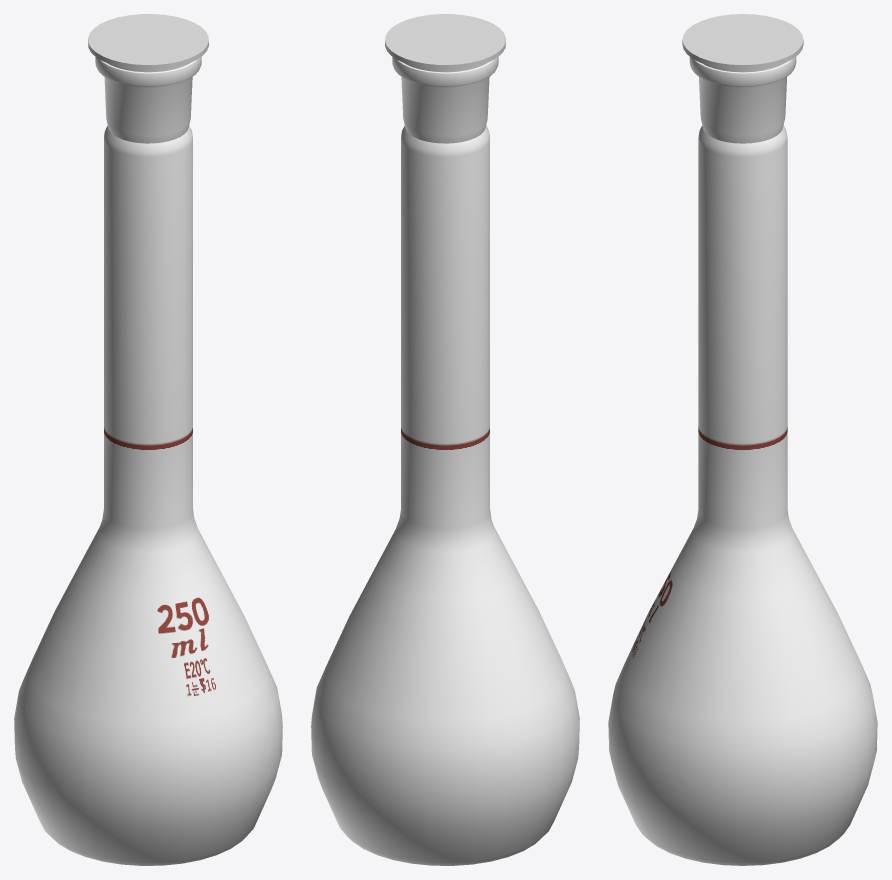
The model's file is volumetric flask_250ml.fbx.
3 renders of one model, left to right at view 1: azimuth 30°, elevation 25°; view 2: azimuth 150°, elevation 25°; view 3: azimuth 270°, elevation 25°, orthographic.
Visible parts, largest first — view 1: volumetirc flask, volumetirc flask_stopper; view 2: volumetirc flask, volumetirc flask_stopper; view 3: volumetirc flask, volumetirc flask_stopper.
Part boxes in pixels (x1=…): volumetirc flask: x1=14, y1=57, x2=282, y2=865; volumetirc flask_stopper: x1=88, y1=14, x2=208, y2=72; volumetirc flask: x1=311, y1=57, x2=579, y2=865; volumetirc flask_stopper: x1=385, y1=14, x2=505, y2=72; volumetirc flask: x1=608, y1=57, x2=877, y2=865; volumetirc flask_stopper: x1=682, y1=14, x2=803, y2=72.
Size of the model in its own units: 8.04 by 25.87 by 8.04.
Materials: 3 (2 with a texture image).
